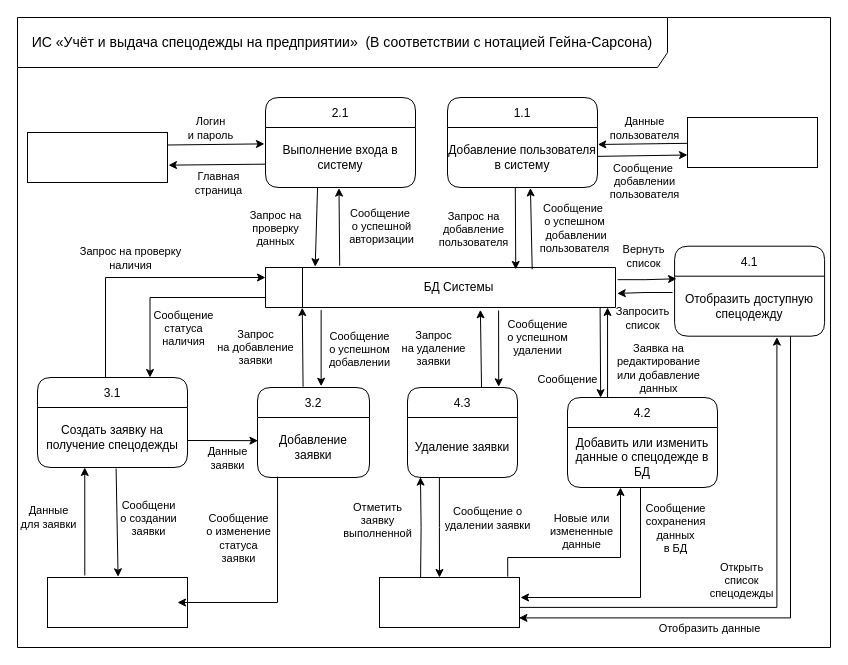
Image size: 848x665. Some labels were removed from this diagram. The box of each missing label's shape, as (x1, y1, x2, y2) in pixels:
Авторизированный сотрудник: (46, 576, 188, 628)
Администратор: (686, 116, 818, 168)
Неавторизированный сотрудник: (26, 132, 168, 182)
Работник склада: (378, 576, 520, 628)
